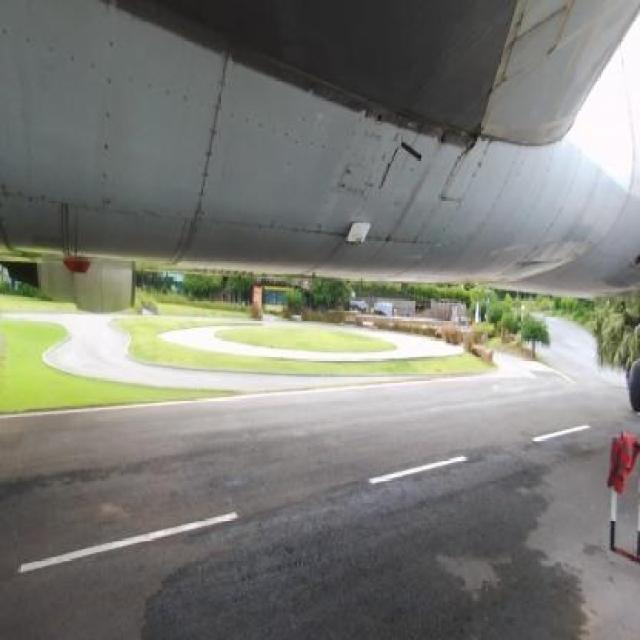Missing-Rivet: (23, 189, 219, 233), (1, 18, 99, 80), (195, 72, 228, 216), (298, 111, 367, 164), (228, 216, 347, 244), (102, 29, 120, 208), (228, 103, 295, 148), (369, 144, 442, 182), (306, 170, 359, 222), (264, 156, 293, 213), (360, 232, 425, 251)
